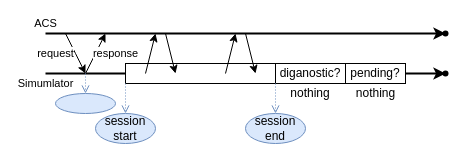
Some shapes in this 473 by 161 pixel diagram are drawn without their labels. Here are the shapes that lost their labels. From the top down, the centre of each, then its label:
At (x=200, y=73): "session".
At (x=85, y=103): "requested".
